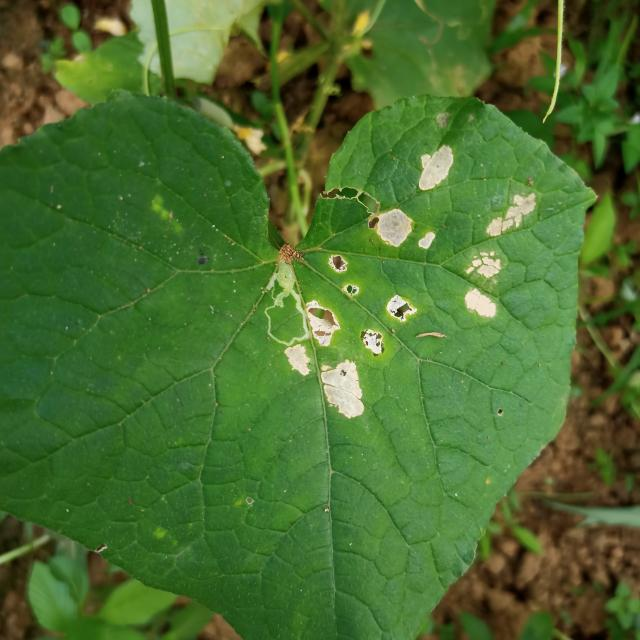disease_cucumber: (286, 150, 452, 420), (463, 191, 538, 321)
